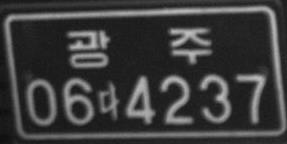0: (23, 76, 59, 128)
2: (159, 74, 195, 126)
3: (197, 72, 234, 125)
4: (122, 73, 157, 126)
6: (61, 76, 95, 127)
7: (234, 71, 269, 126)
광주_D: (65, 22, 214, 71)
다: (97, 80, 120, 122)
